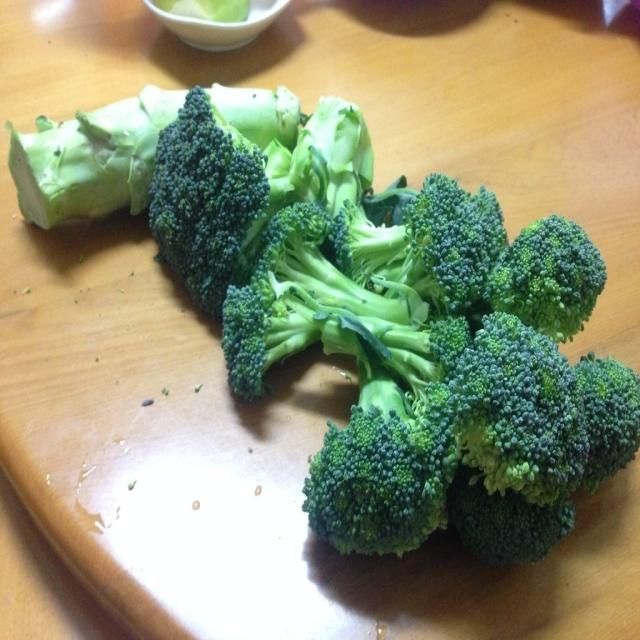broccoli: (155, 70, 322, 310), (446, 317, 588, 506), (302, 384, 450, 547), (413, 162, 509, 323), (492, 206, 608, 338), (572, 356, 640, 489)
